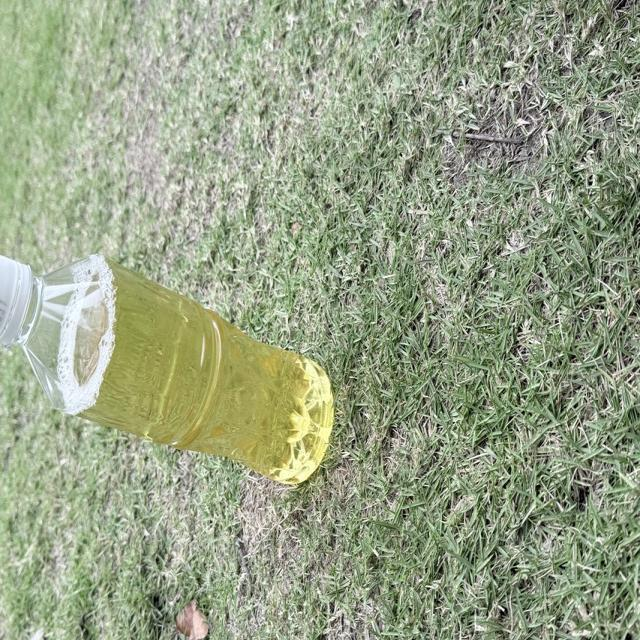high: (0, 254, 332, 483)
